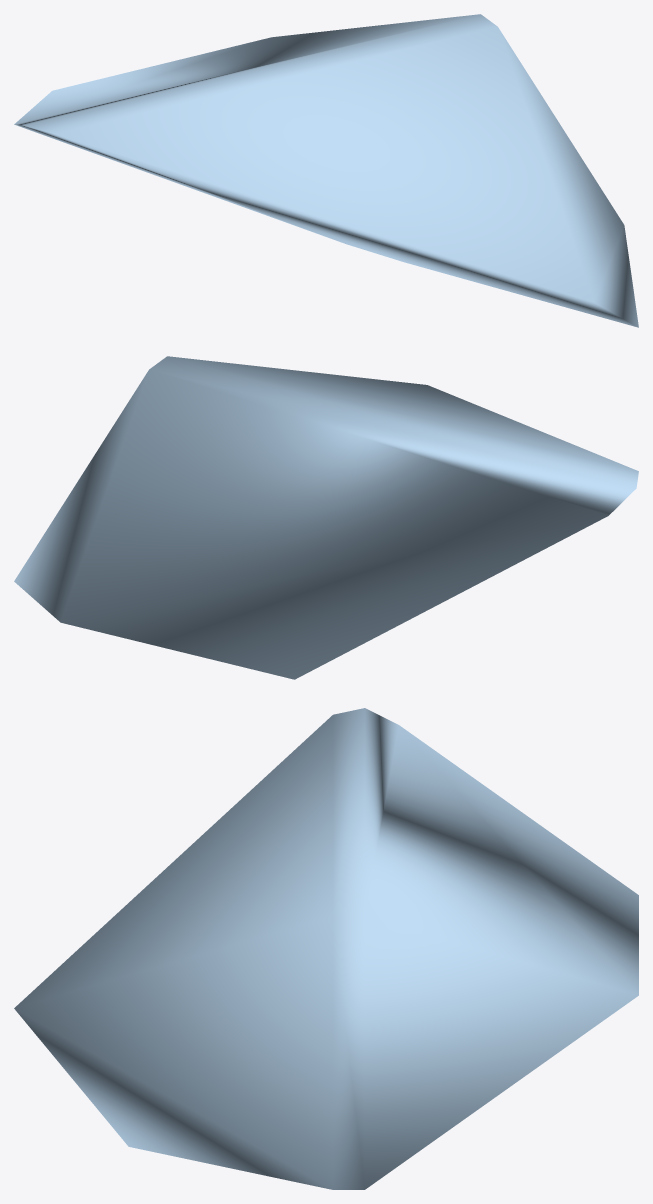
Rendered from citrine.glb.
3 views of the same model, one above another, from view 1: azimuth 30°, elevation 25°; view 2: azimuth 150°, elevation 25°; view 3: azimuth 270°, elevation 25° (orthographic). The views are drawn at different scales.
Visible parts, largest first — view 1: citrine; view 2: citrine; view 3: citrine.
Part boxes in pixels (<box>): citrine: <box>14,14,638,327</box>; citrine: <box>14,356,638,679</box>; citrine: <box>14,708,638,1189</box>.
Size of the model in its own units: 5.32 by 2 by 5.27.
